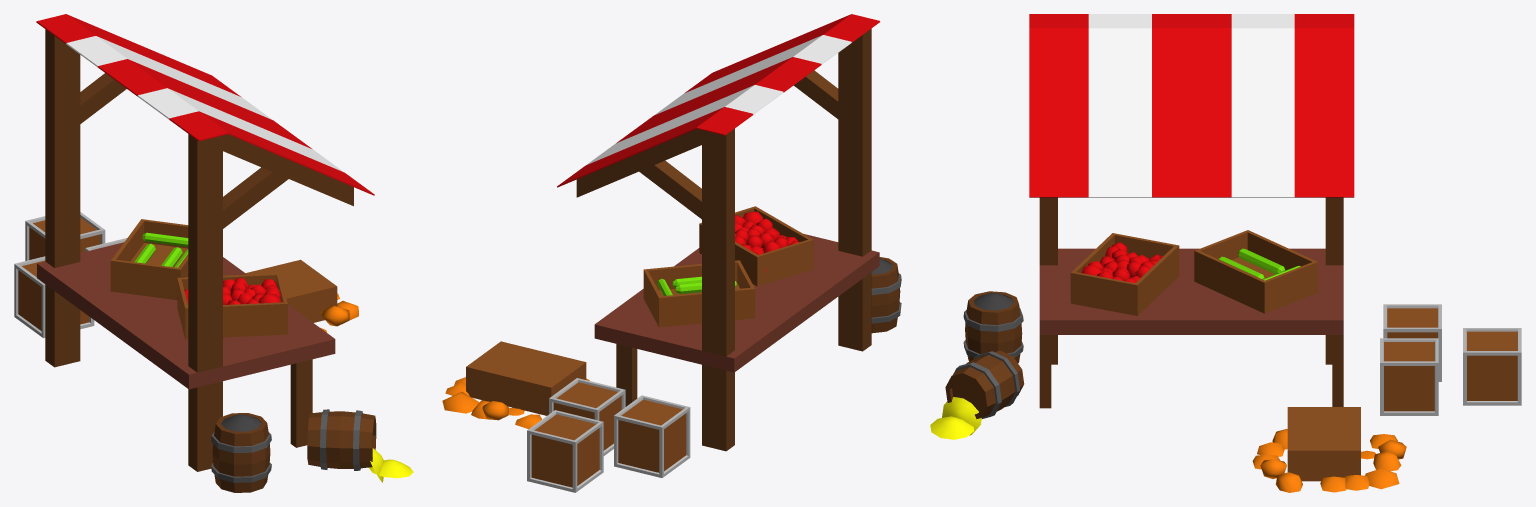
File: stall 1.fbx
The picture shows the model from 3 angles, left to right: view 1: azimuth 30°, elevation 25°; view 2: azimuth 150°, elevation 25°; view 3: azimuth 270°, elevation 25°; orthographic projection. The views are drawn at different scales.
Parts seen in each view (by area): view 1: stall 1, trey komkommer.001, barrel yellow.001, trey red.001, barrel black.001, trey orange.001, crates.004, crates.006; view 2: stall 1, trey orange.001, crates.006, crates.004, trey red.001, trey komkommer.001, crates.005, barrel black.001; view 3: stall 1, trey orange.001, trey komkommer.001, trey red.001, barrel yellow.001, crates.005, crates.006, barrel black.001, crates.004.
Boxes of the visible parts, bbox=[...] form: stall 1: bbox=[36, 14, 374, 471]; trey komkommer.001: bbox=[110, 219, 188, 299]; barrel yellow.001: bbox=[307, 409, 413, 482]; trey red.001: bbox=[177, 273, 287, 339]; barrel black.001: bbox=[211, 413, 271, 492]; trey orange.001: bbox=[245, 259, 358, 332]; crates.004: bbox=[14, 256, 94, 338]; crates.006: bbox=[25, 212, 105, 260]; stall 1: bbox=[557, 14, 879, 451]; trey orange.001: bbox=[442, 341, 589, 429]; crates.006: bbox=[527, 410, 603, 492]; crates.004: bbox=[614, 395, 690, 477]; trey red.001: bbox=[699, 206, 813, 286]; trey komkommer.001: bbox=[643, 260, 755, 327]; crates.005: bbox=[549, 378, 625, 455]; barrel black.001: bbox=[871, 257, 901, 333]; stall 1: bbox=[1029, 14, 1354, 408]; trey orange.001: bbox=[1252, 407, 1406, 492]; trey komkommer.001: bbox=[1194, 230, 1317, 313]; trey red.001: bbox=[1070, 233, 1179, 315]; barrel yellow.001: bbox=[930, 350, 1024, 439]; crates.005: bbox=[1380, 338, 1438, 415]; crates.006: bbox=[1463, 328, 1521, 405]; barrel black.001: bbox=[963, 291, 1023, 363]; crates.004: bbox=[1383, 304, 1441, 381].
Bounding box in the file's own units: 4.26 × 4.81 × 7.35.
